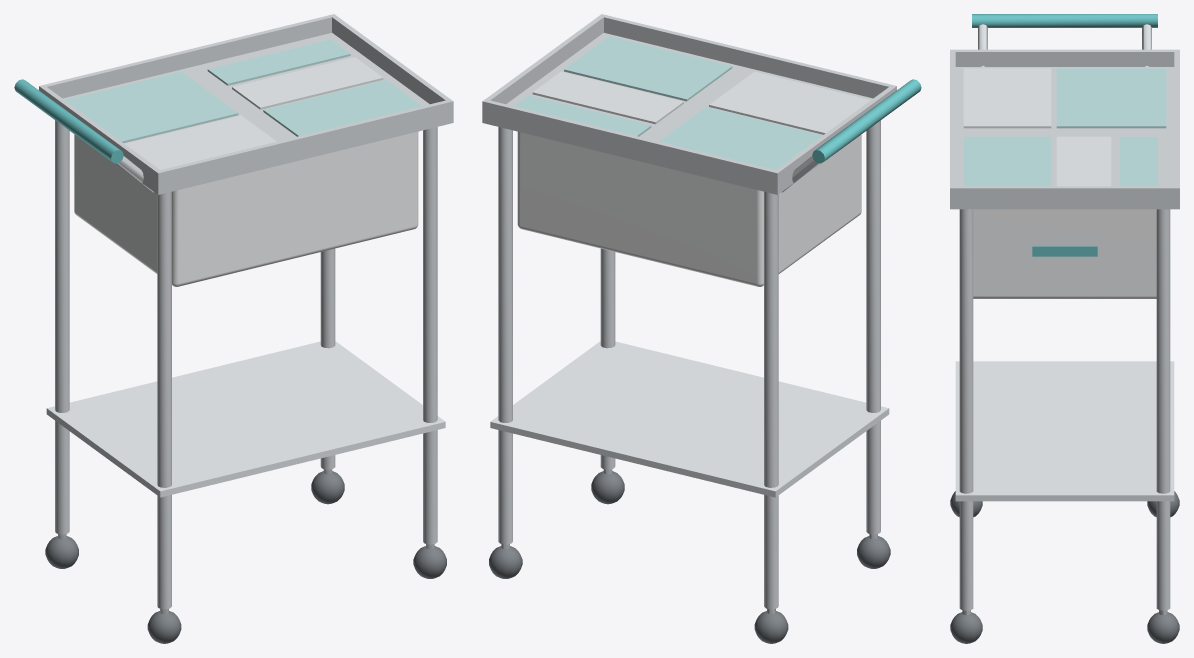
File: tray.glb
3 renders of one model, left to right at view 1: azimuth 30°, elevation 25°; view 2: azimuth 150°, elevation 25°; view 3: azimuth 270°, elevation 25°, orthographic. The views are drawn at different scales.
Parts seen in each view (by area): view 1: trolley; view 2: trolley; view 3: trolley.
Boxes of the visible parts, x1,y1,x2,y2 form: trolley: (14, 14, 453, 643); trolley: (482, 14, 921, 643); trolley: (950, 14, 1179, 643).
Size of the model in its own units: 0.673 by 0.9724 by 0.42.
